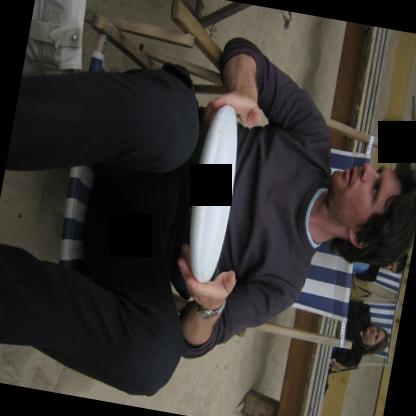handbag: (23, 0, 87, 76)
